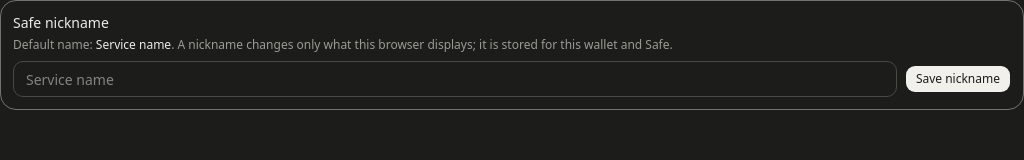
Test: SafeNicknameEditor › keeps the draft and confirmed display when storage rejects a write
The width and height of the screenshot is (1024, 160).
Step 1. Type "Local draft" into the field labelled "Safe nickname" → (455, 79), box [13, 61, 897, 97]
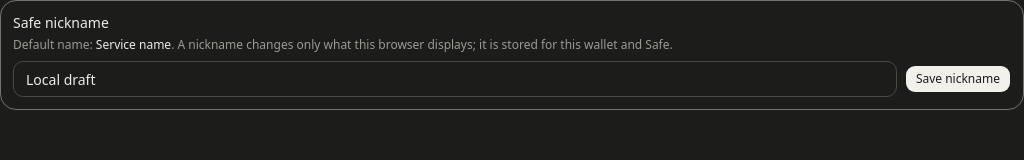
Step 2. Click the button "Save nickname" → (958, 79), box [905, 65, 1011, 93]
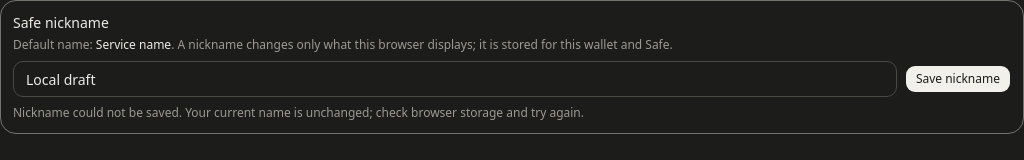
Check: the message shows "could not be saved", box [13, 104, 584, 121]
